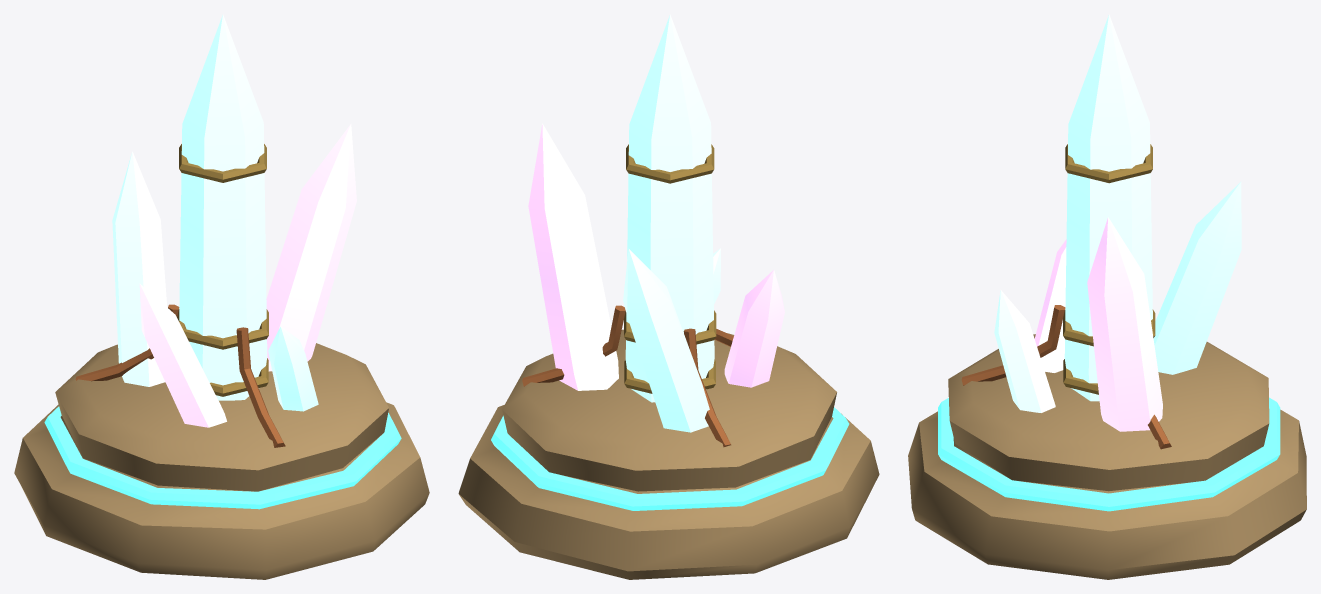
Rendered from deco_crystal_lamp_grand.fbx.
3 views of the same model, side by side, from view 1: azimuth 30°, elevation 25°; view 2: azimuth 150°, elevation 25°; view 3: azimuth 270°, elevation 25° (orthographic).
Parts seen in each view (by area): view 1: CrystalLamp_Grand_Pedestal, CrystalLamp_Grand_Crystal1, CrystalLamp_Grand_Crystal2, CrystalLamp_Grand_Crystal3, CrystalLamp_Grand_GlowRing, CrystalLamp_Grand_Crystal4, CrystalLamp_Grand_Bands, CrystalLamp_Grand_Crystal5, CrystalLamp_Grand_Clamps; view 2: CrystalLamp_Grand_Pedestal, CrystalLamp_Grand_Crystal1, CrystalLamp_Grand_Crystal2, CrystalLamp_Grand_Crystal3, CrystalLamp_Grand_GlowRing, CrystalLamp_Grand_Crystal4, CrystalLamp_Grand_Bands, CrystalLamp_Grand_Clamps; view 3: CrystalLamp_Grand_Pedestal, CrystalLamp_Grand_Crystal1, CrystalLamp_Grand_Crystal2, CrystalLamp_Grand_Crystal3, CrystalLamp_Grand_GlowRing, CrystalLamp_Grand_Crystal5, CrystalLamp_Grand_Bands, CrystalLamp_Grand_Crystal4, CrystalLamp_Grand_Clamps.
Boxes of the visible parts, x1,y1,x2,y2 form: CrystalLamp_Grand_Pedestal: (14, 343, 429, 579); CrystalLamp_Grand_Crystal1: (179, 14, 267, 400); CrystalLamp_Grand_Crystal2: (266, 124, 356, 371); CrystalLamp_Grand_Crystal3: (112, 151, 167, 386); CrystalLamp_Grand_GlowRing: (44, 406, 401, 509); CrystalLamp_Grand_Crystal4: (139, 283, 226, 427); CrystalLamp_Grand_Bands: (177, 144, 268, 396); CrystalLamp_Grand_Crystal5: (268, 326, 318, 411); CrystalLamp_Grand_Clamps: (75, 304, 285, 447); CrystalLamp_Grand_Pedestal: (458, 329, 879, 579); CrystalLamp_Grand_Crystal1: (625, 14, 714, 402); CrystalLamp_Grand_Crystal2: (528, 123, 618, 390); CrystalLamp_Grand_Crystal3: (623, 249, 709, 432); CrystalLamp_Grand_GlowRing: (491, 407, 849, 510); CrystalLamp_Grand_Crystal4: (724, 270, 784, 387); CrystalLamp_Grand_Bands: (624, 144, 716, 393); CrystalLamp_Grand_Clamps: (522, 305, 733, 447); CrystalLamp_Grand_Pedestal: (908, 334, 1306, 579); CrystalLamp_Grand_Crystal1: (1064, 14, 1152, 401); CrystalLamp_Grand_Crystal2: (1087, 217, 1162, 431); CrystalLamp_Grand_Crystal3: (1153, 181, 1241, 374); CrystalLamp_Grand_GlowRing: (938, 397, 1280, 511); CrystalLamp_Grand_Crystal5: (994, 290, 1055, 412); CrystalLamp_Grand_Bands: (1063, 144, 1155, 394); CrystalLamp_Grand_Crystal4: (1034, 239, 1066, 372); CrystalLamp_Grand_Clamps: (961, 305, 1171, 449).
Bounding box in the file's own units: 158 × 203 × 153.
